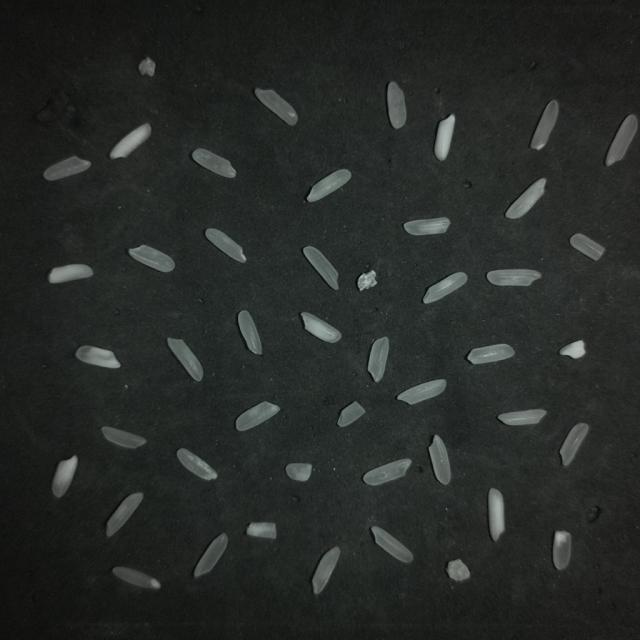broken: (570, 234, 604, 260), (553, 531, 571, 569), (338, 402, 365, 426), (285, 463, 312, 481)
chalky: (371, 526, 413, 563), (110, 124, 151, 158), (301, 312, 341, 343), (52, 455, 78, 498), (75, 346, 121, 368), (434, 115, 455, 161), (48, 264, 93, 283), (488, 489, 504, 541), (246, 522, 276, 539), (559, 340, 586, 358)
foreign: (447, 559, 470, 581), (357, 270, 377, 291), (138, 57, 156, 76)
whole: (605, 114, 638, 167), (505, 179, 546, 219), (106, 492, 143, 536), (254, 89, 298, 125), (167, 338, 203, 381), (194, 533, 228, 578), (303, 247, 338, 289), (307, 169, 351, 201), (530, 100, 558, 150), (205, 229, 246, 263), (423, 272, 467, 303), (192, 149, 236, 178), (312, 547, 339, 594), (363, 459, 411, 485), (236, 402, 279, 431), (177, 449, 217, 480), (397, 379, 446, 404), (560, 424, 589, 466), (129, 245, 174, 272), (44, 156, 91, 181), (429, 435, 451, 484), (238, 310, 262, 354), (112, 567, 160, 589), (368, 337, 389, 382), (467, 344, 514, 364), (102, 427, 146, 448), (487, 269, 541, 286), (403, 217, 451, 236), (387, 82, 406, 129), (498, 409, 546, 425)
